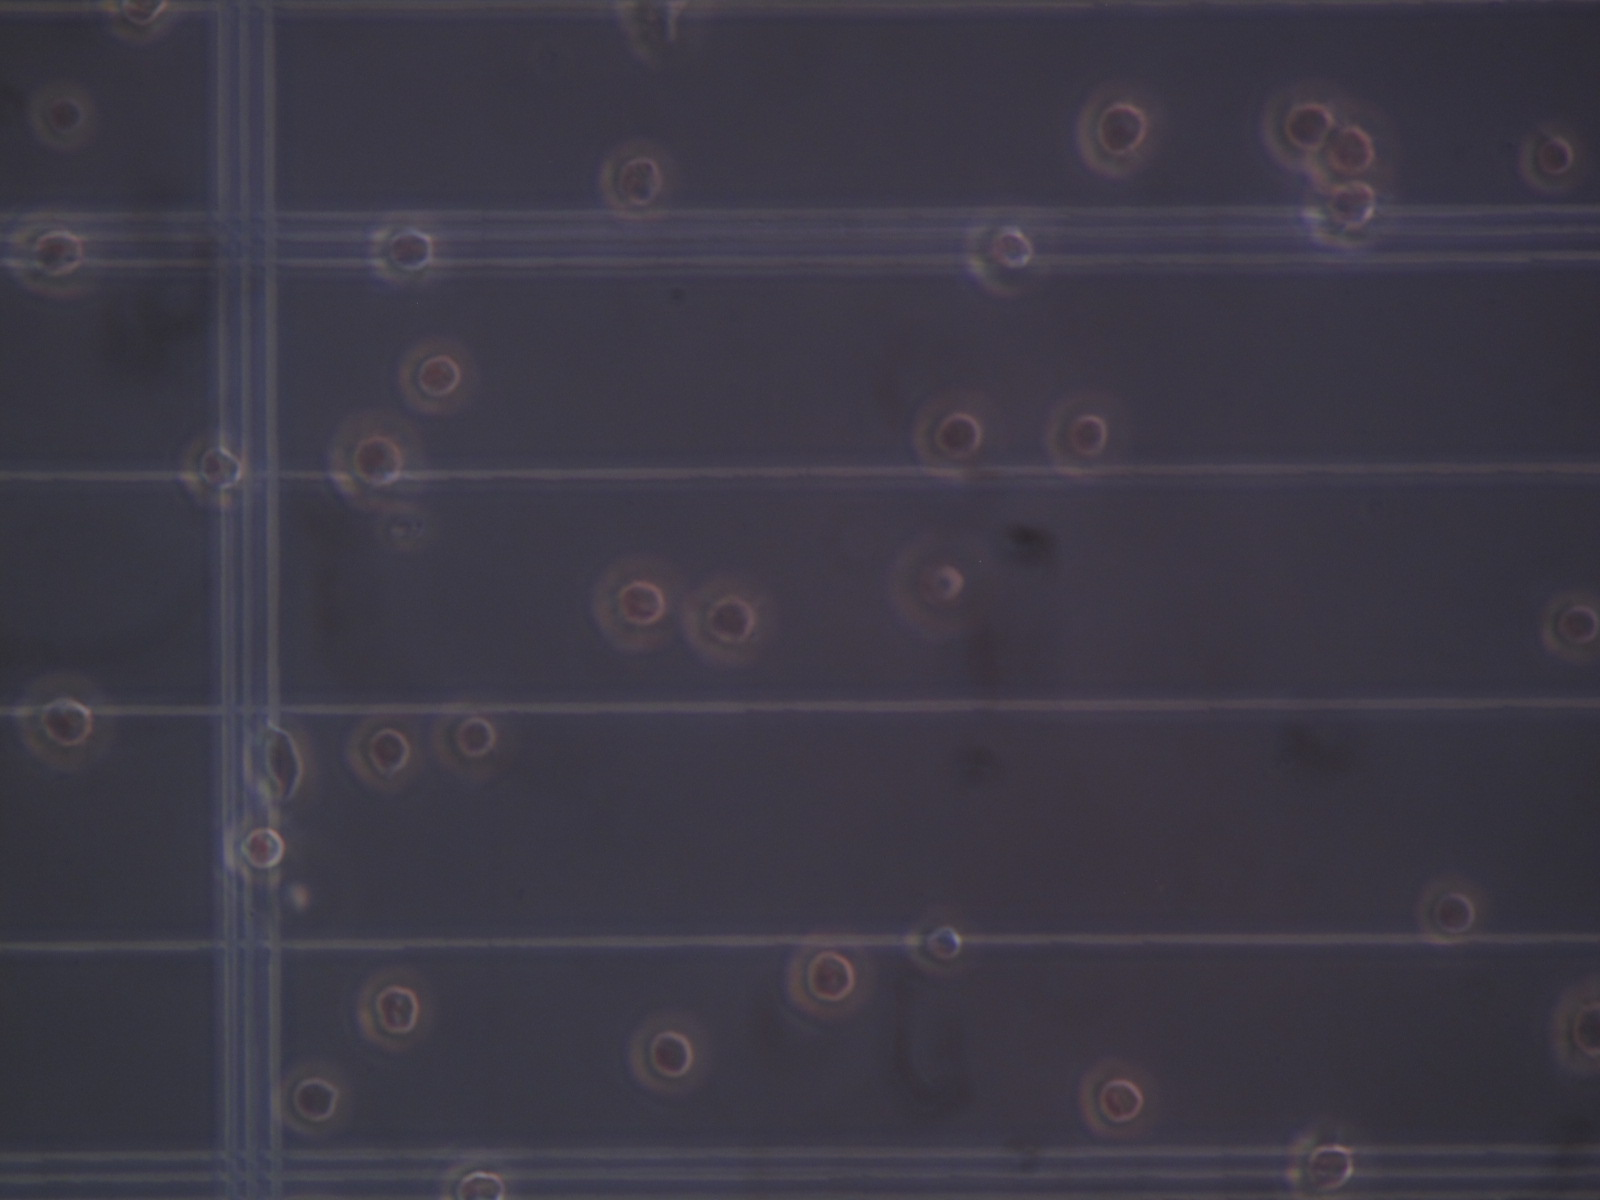hemo: (325, 410, 427, 511), (14, 671, 115, 770), (591, 555, 680, 650), (911, 389, 999, 482), (684, 575, 771, 666), (1260, 79, 1346, 171), (889, 537, 968, 637), (1075, 83, 1158, 176), (1309, 102, 1398, 187), (1044, 391, 1126, 482), (357, 966, 432, 1053), (627, 1012, 707, 1094), (1078, 1058, 1157, 1139), (244, 720, 315, 809), (597, 140, 674, 221), (786, 943, 868, 1018), (397, 337, 475, 415), (9, 221, 87, 297), (1303, 179, 1387, 250), (277, 1059, 351, 1137), (964, 217, 1034, 297), (346, 717, 420, 792), (1284, 1128, 1356, 1200), (433, 710, 506, 780), (178, 434, 244, 508), (1550, 979, 1600, 1074), (1415, 879, 1482, 948), (223, 816, 287, 886), (28, 83, 94, 150), (1518, 126, 1584, 194), (369, 221, 436, 285), (1540, 591, 1600, 662), (905, 913, 968, 976), (101, 3, 176, 43), (441, 1160, 508, 1200)
